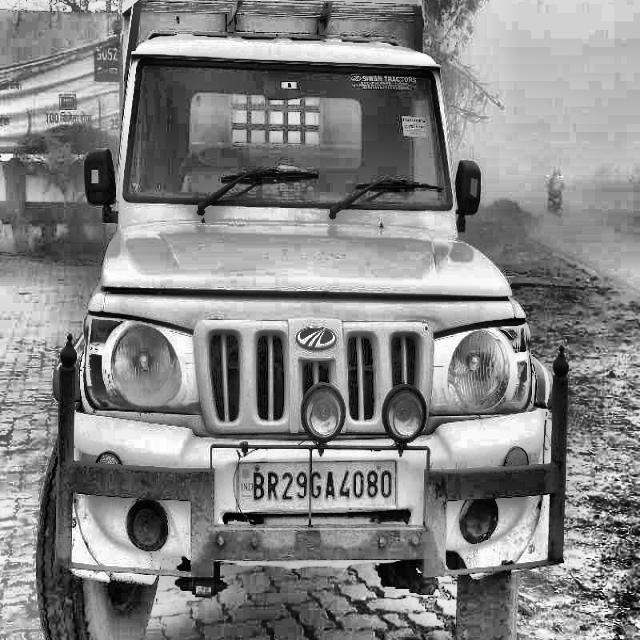light_vehicle: (46, 26, 558, 596)
